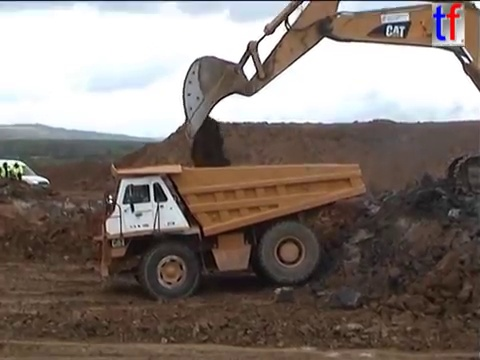excavator: (178, 1, 480, 201)
truck: (86, 160, 368, 302)
worker: (10, 159, 24, 197), (1, 161, 13, 197)
